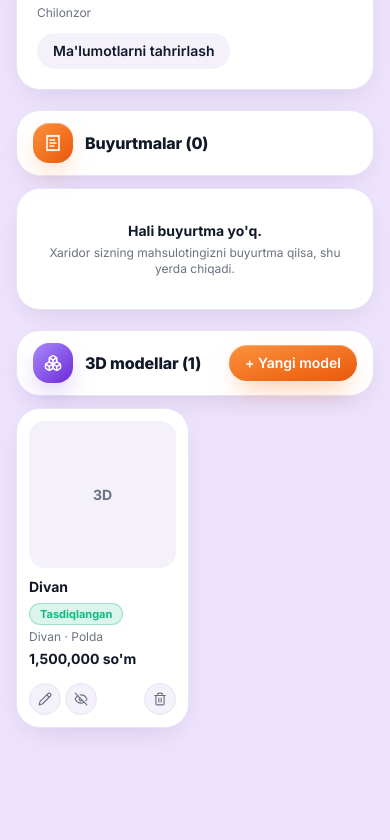
Test: model styles › an older model without styles opens with none chosen
The width and height of the screenshot is (390, 840).
(page scrolled)
Click the button titled "Tahrirlash": (45, 699) [29,683,61,715]
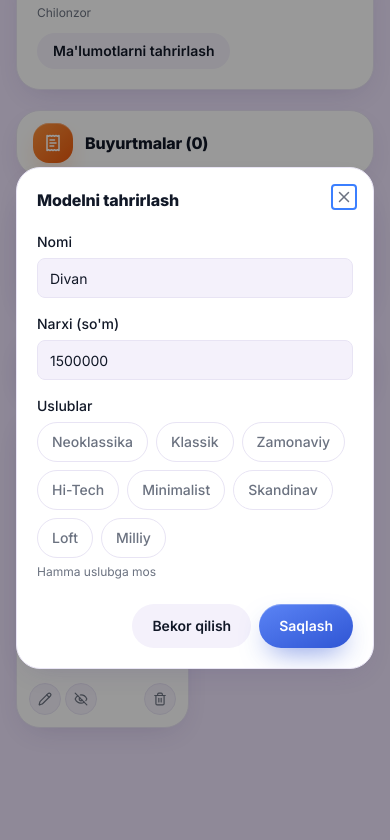
Expected: the text "Hamma uslubga mos" is shown, [37,564,156,579]
